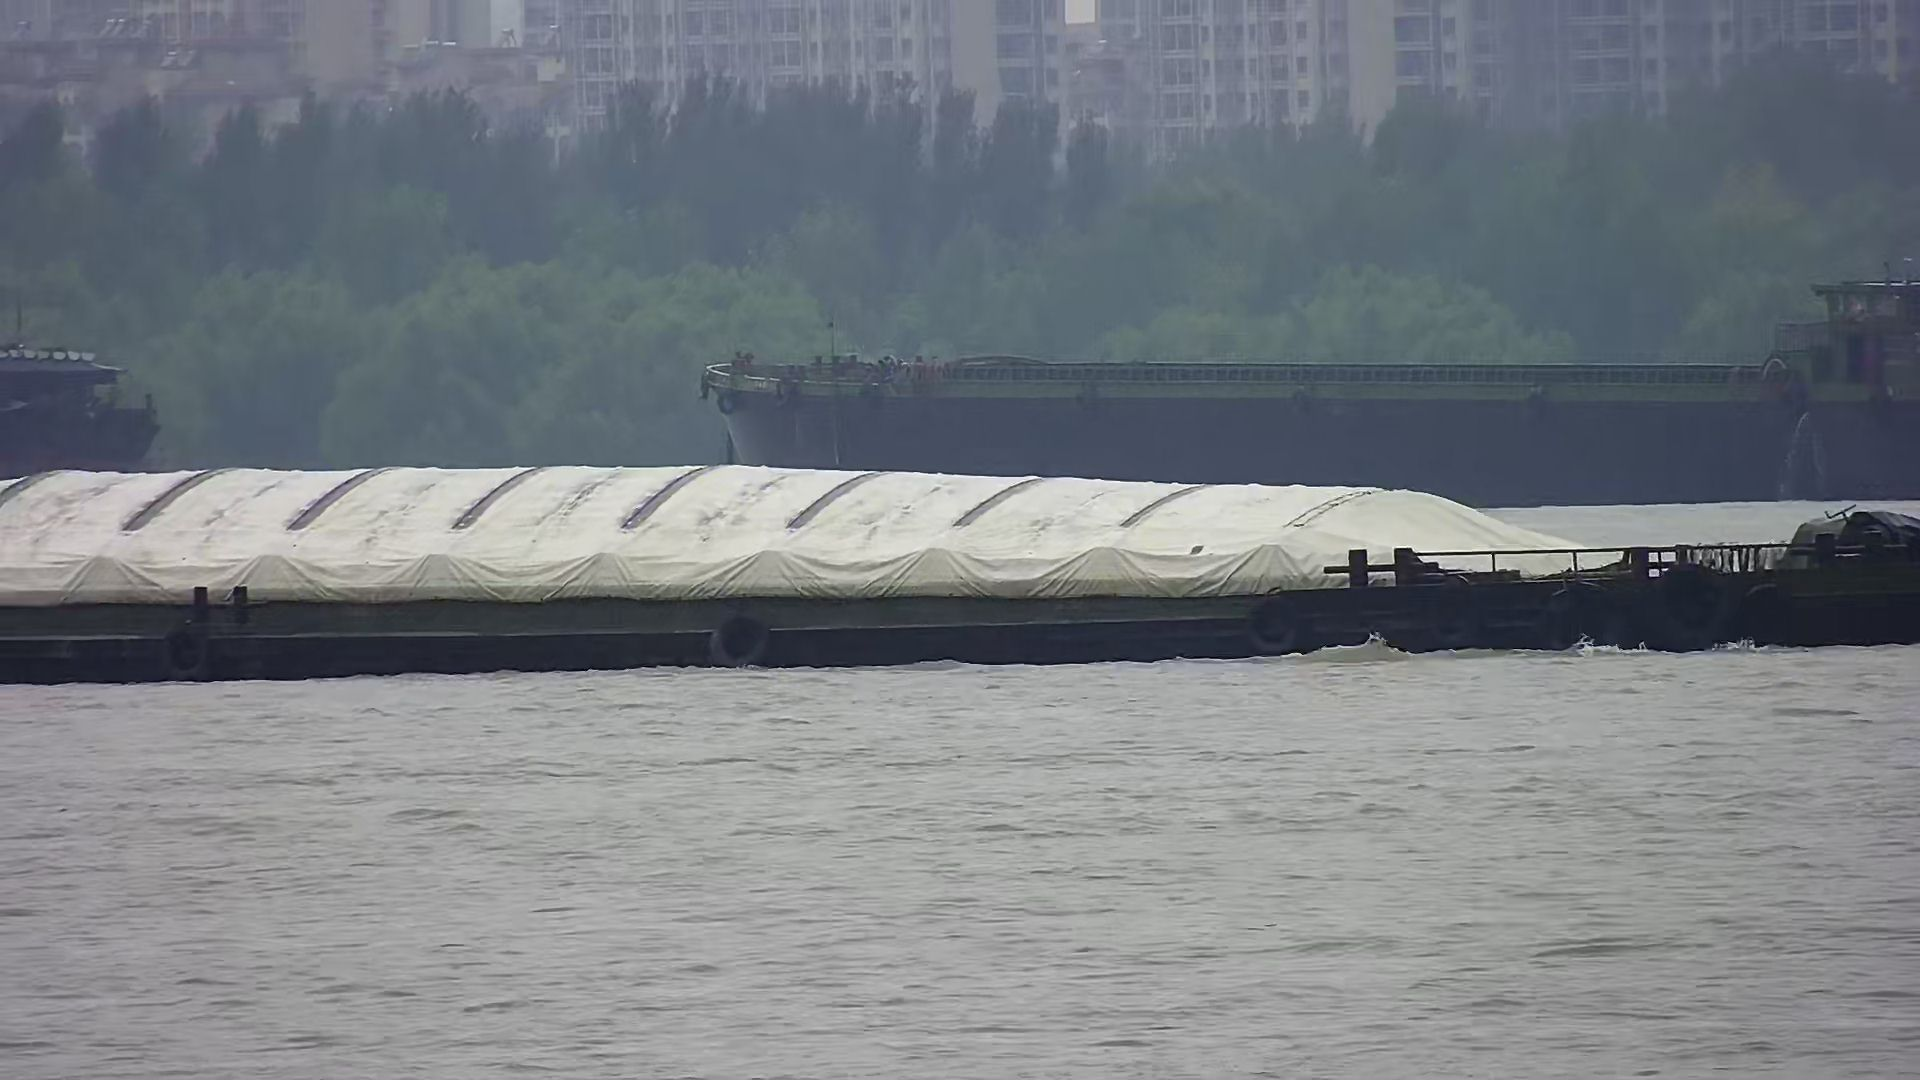ship: (1, 469, 1920, 688), (709, 265, 1920, 508), (1, 343, 160, 473)
